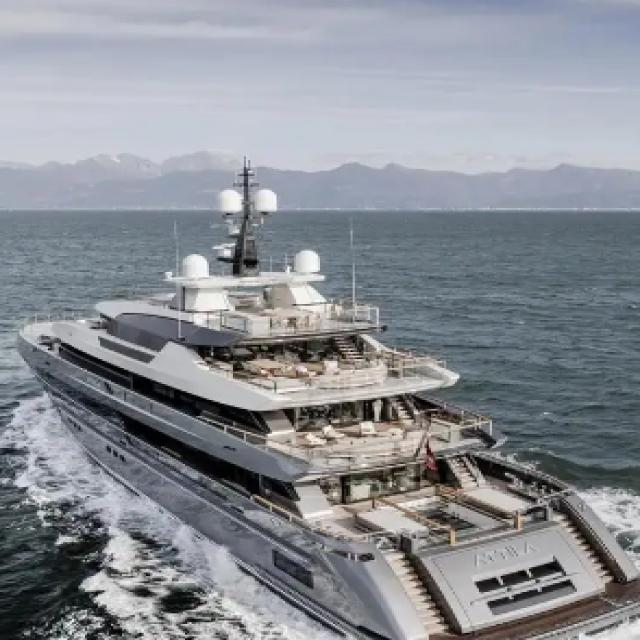houseboat: (6, 192, 640, 640)
